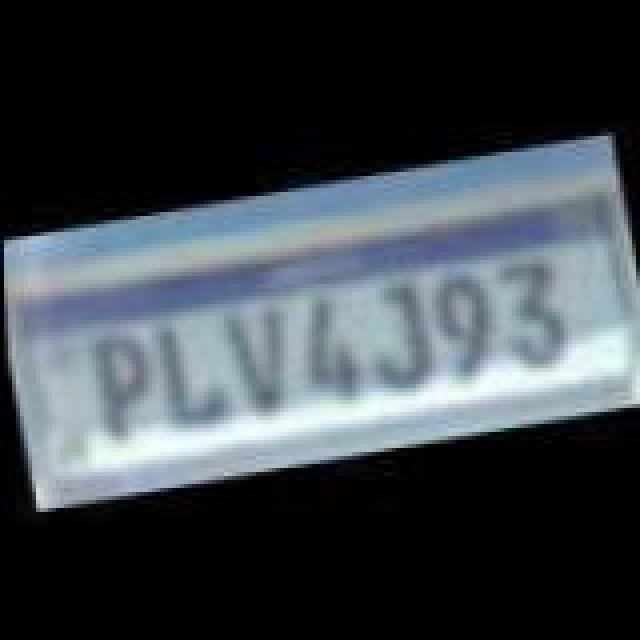3: (492, 254, 572, 370)
4: (282, 282, 366, 406)
9: (420, 262, 500, 386)
J: (356, 270, 436, 398)
L: (144, 308, 220, 436)
P: (80, 322, 156, 446)
V: (212, 292, 296, 416)
